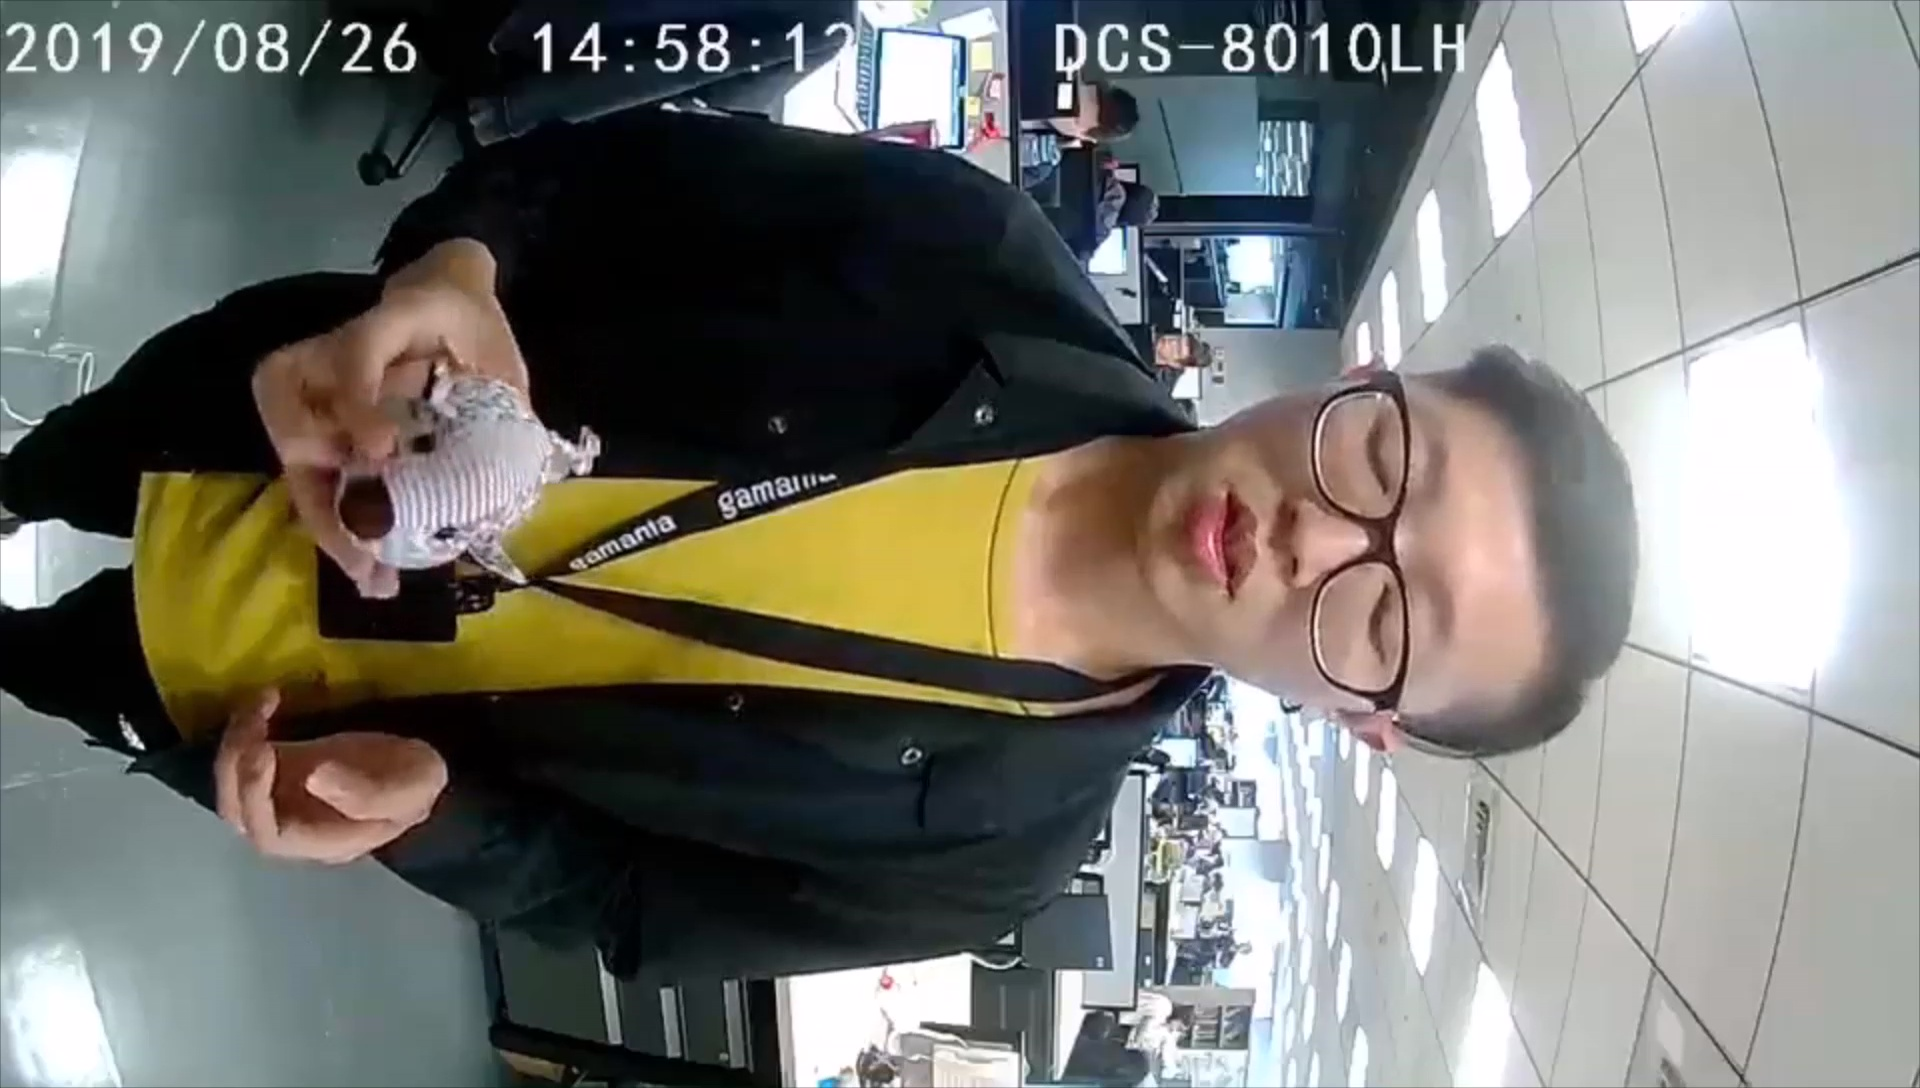pig: (331, 351, 603, 592)
